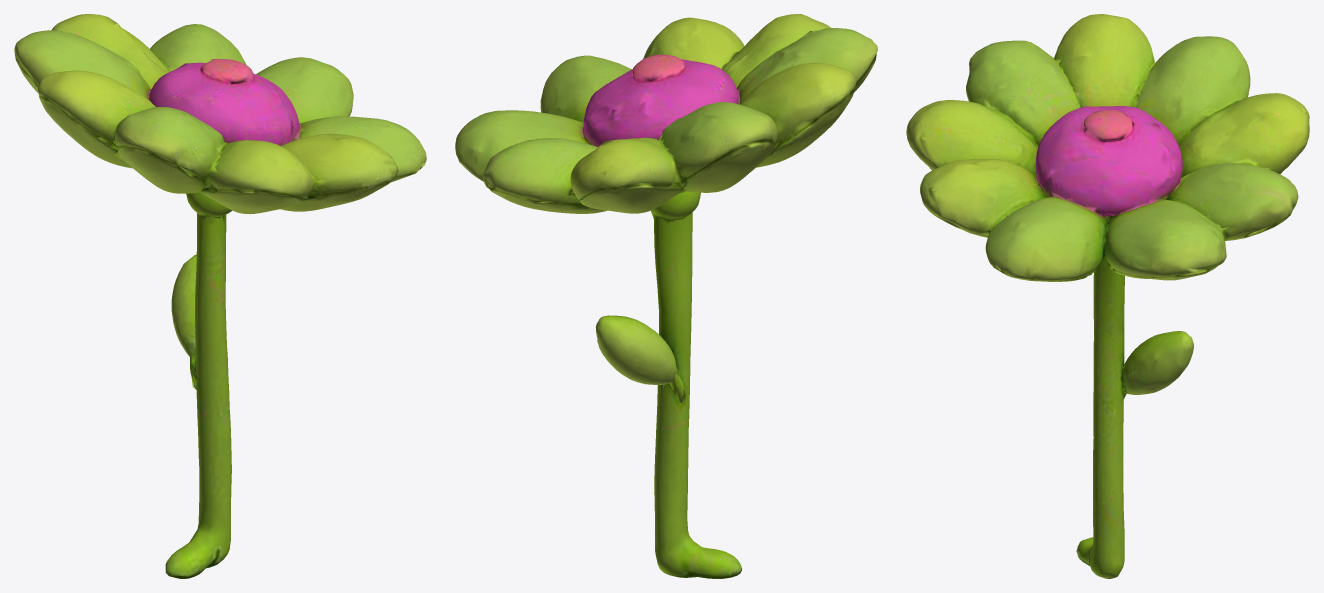
Rendered from prop_vibe_flower_01.glb.
3 views of the same model, side by side, from view 1: azimuth 30°, elevation 25°; view 2: azimuth 150°, elevation 25°; view 3: azimuth 270°, elevation 25° (orthographic). The views are drawn at different scales.
Visible parts, largest first — view 1: prop_vibe_flower_01; view 2: prop_vibe_flower_01; view 3: prop_vibe_flower_01.
Boxes of the visible parts, box(x1,y1,x2,y2) form: prop_vibe_flower_01: box(14, 14, 426, 578); prop_vibe_flower_01: box(455, 14, 877, 578); prop_vibe_flower_01: box(906, 14, 1309, 578).
Size of the model in its own units: 0.6775 by 1 by 0.7382.
1 material, 1 textured.
